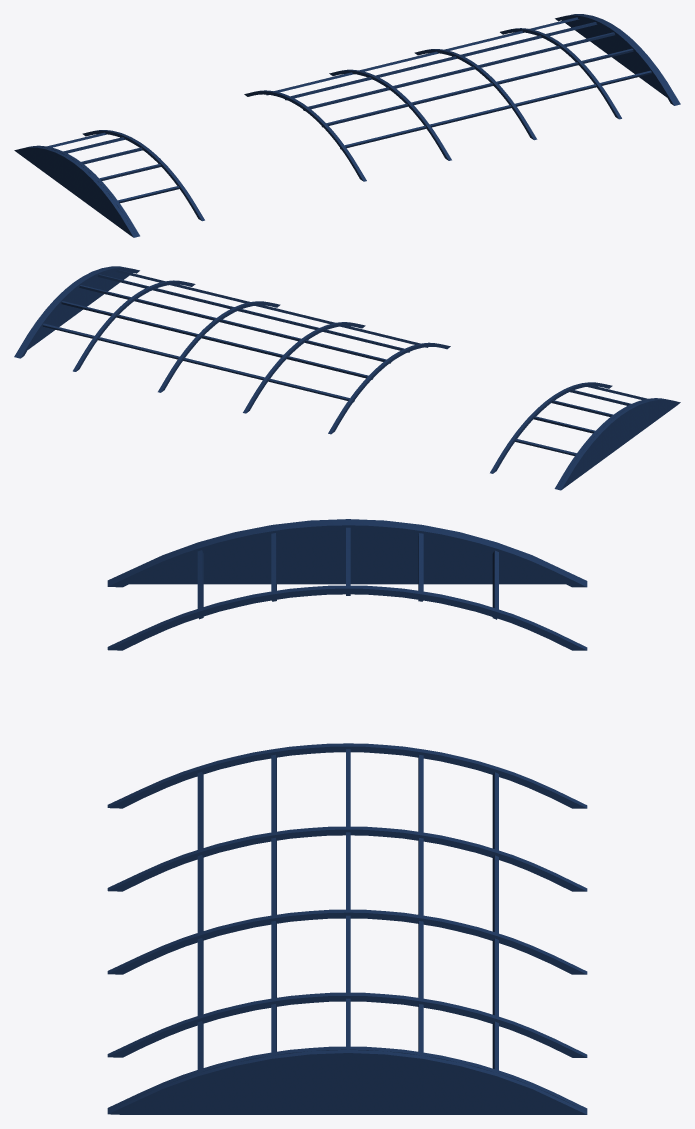
The model's file is Roof01.fbx.
3 views of the same model, one above another, from view 1: azimuth 30°, elevation 25°; view 2: azimuth 150°, elevation 25°; view 3: azimuth 270°, elevation 25° (orthographic). The views are drawn at different scales.
Visible parts, largest first — view 1: Roof 01; view 2: Roof 01; view 3: Roof 01.
Part boxes in pixels (x1,y1,x2,y2): Roof 01: [14, 14, 680, 237]; Roof 01: [14, 266, 680, 490]; Roof 01: [107, 519, 587, 1114].
Bounding box in the file's own units: 3311 × 179 × 1257.
